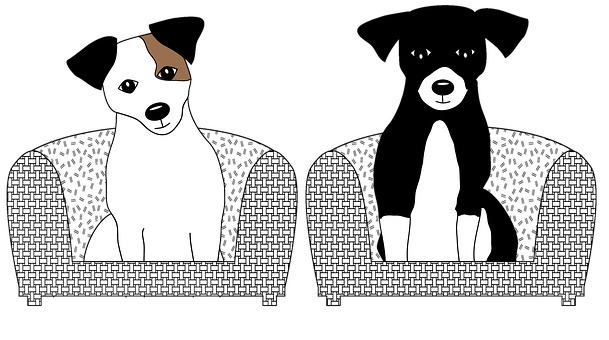dog: (52, 6, 226, 260), (353, 9, 529, 260)
sofa: (310, 128, 599, 312), (16, 128, 299, 314)
